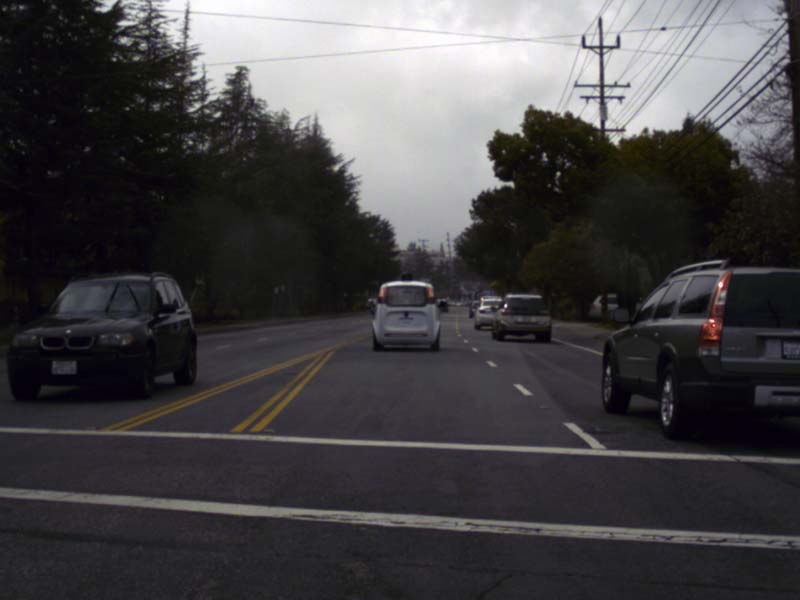Green: (475, 290, 480, 302), (441, 278, 446, 287), (452, 278, 456, 287)
